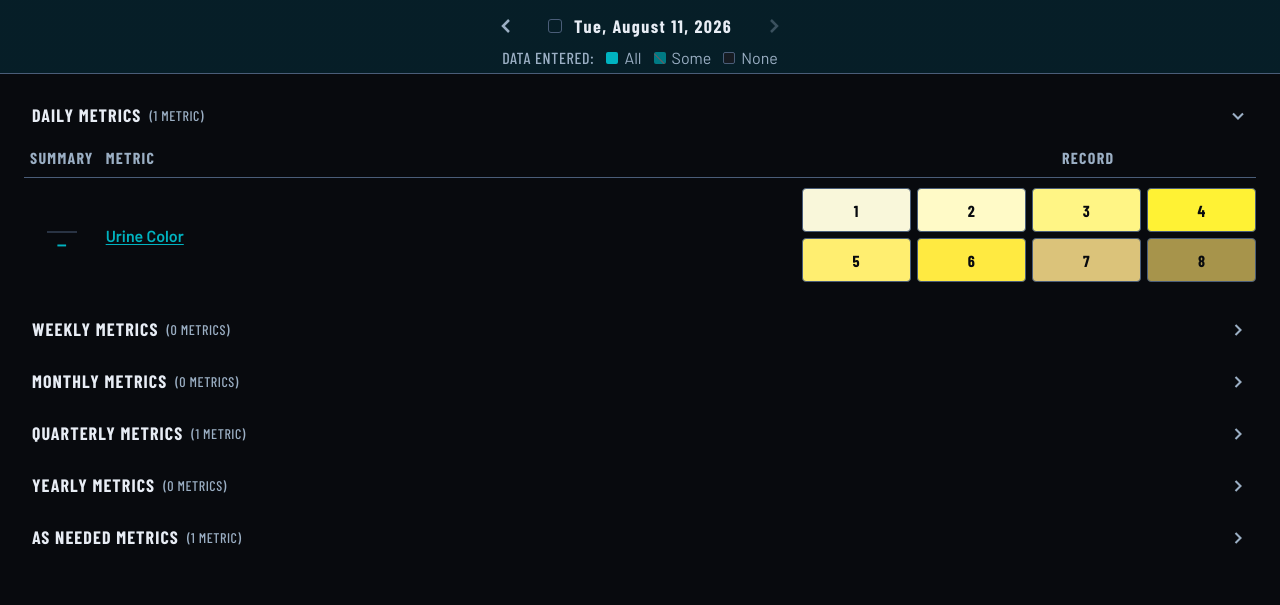
MetricsDataEntryLog › shows an empty state for a section with no metrics
Step 1. Click the button "Weekly Metrics (0 metrics)" → x=95, y=329, box [24,308,1256,352]
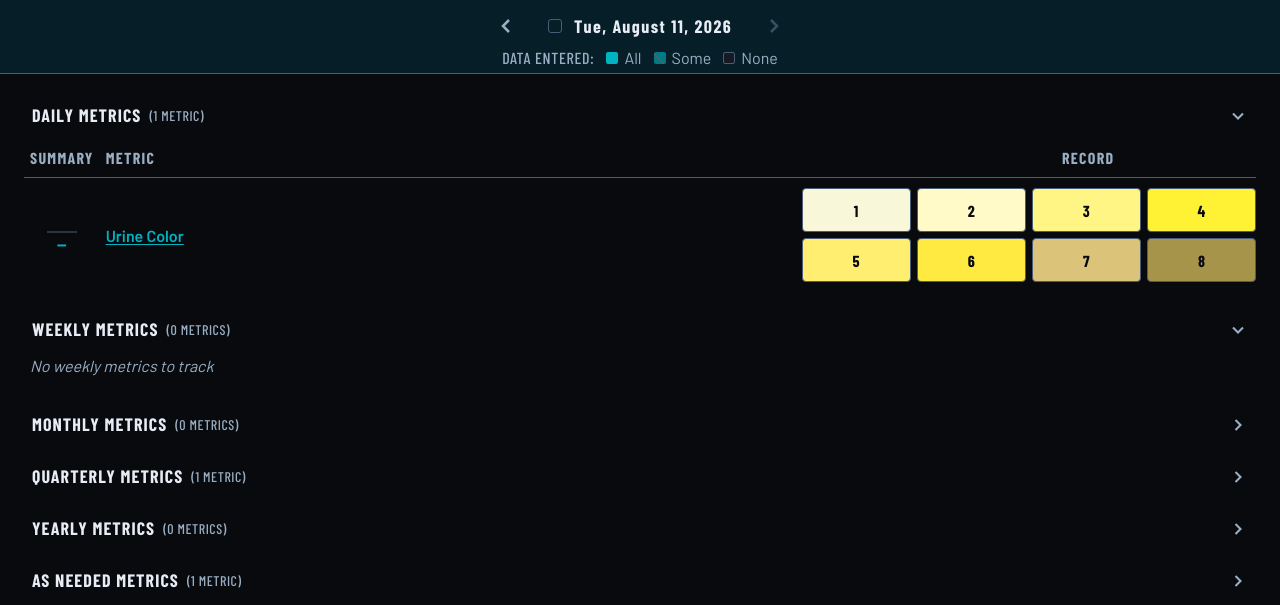
Expected: the text "No weekly metrics to track" is shown, [30,356,214,375]
